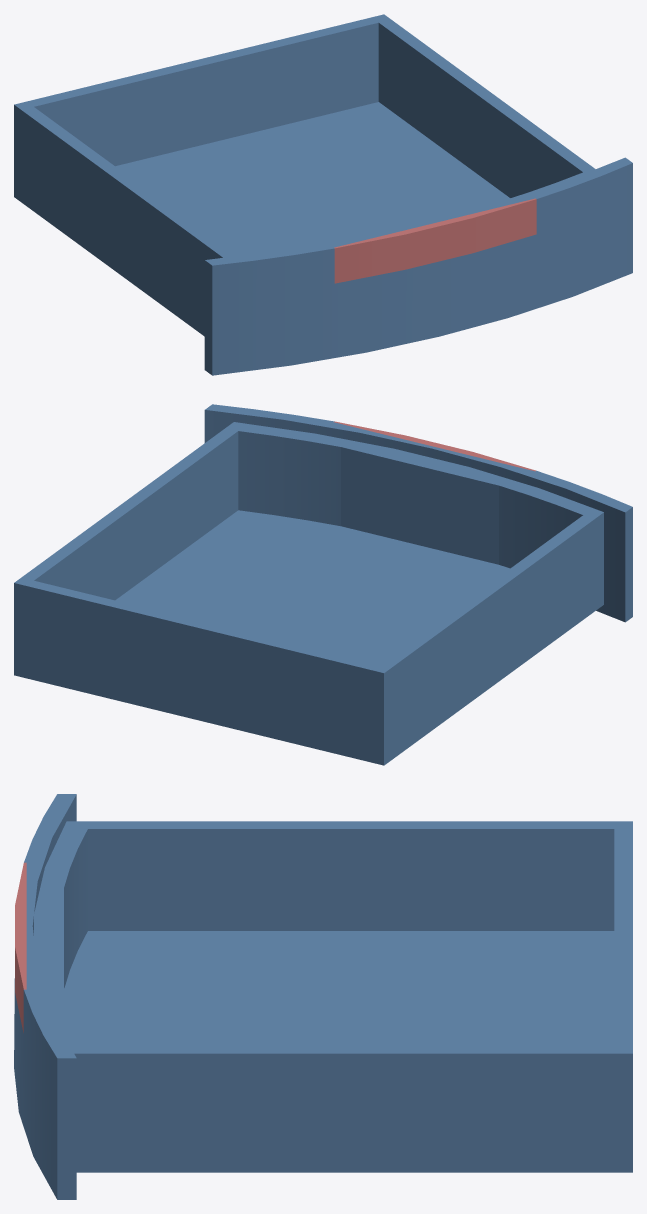
Rendered from step_04.glb.
3 views of the same model, one above another, from view 1: azimuth 30°, elevation 25°; view 2: azimuth 150°, elevation 25°; view 3: azimuth 270°, elevation 25° (orthographic). The views are drawn at different scales.
Parts seen in each view (by area): view 1: part__dispensing drawer, removed__dispensing drawer; view 2: part__dispensing drawer, removed__dispensing drawer; view 3: part__dispensing drawer, removed__dispensing drawer.
Part boxes in pixels (x1,y1,x2,y2): part__dispensing drawer: (14, 14, 632, 375); removed__dispensing drawer: (334, 198, 536, 283); part__dispensing drawer: (14, 404, 632, 765); removed__dispensing drawer: (334, 421, 535, 471); part__dispensing drawer: (14, 794, 632, 1199); removed__dispensing drawer: (15, 862, 26, 1032).
Bounding box in the file's own units: 50 × 12.5 × 49.5.
